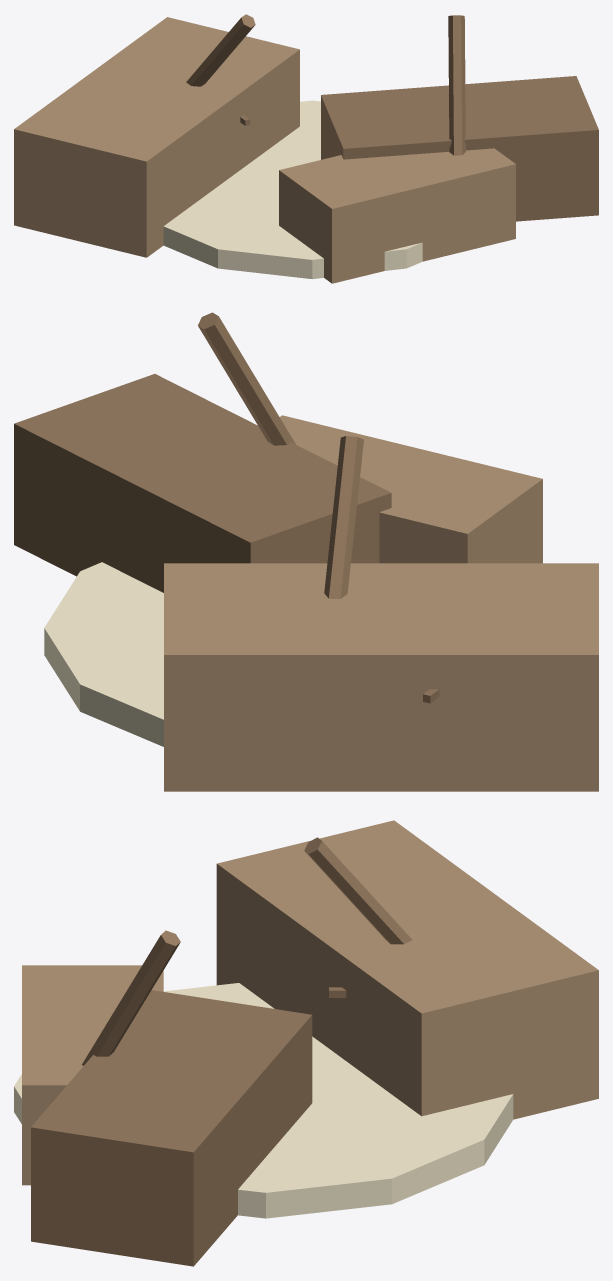
The model's file is 27-Islas-Ubicaciones_cementerio_barcos.glb.
3 renders of one model, top to bottom at view 1: azimuth 30°, elevation 25°; view 2: azimuth 150°, elevation 25°; view 3: azimuth 270°, elevation 25°, orthographic. The views are drawn at different scales.
Parts seen in each view (by area): view 1: SM_Cementerio_Casco_0, SM_Cementerio_Casco_2, SM_Cementerio_Casco_1, SM_Cementerio_Medano, SM_Cementerio_Mastil_1, SM_Cementerio_Mastil_0; view 2: SM_Cementerio_Casco_0, SM_Cementerio_Casco_1, SM_Cementerio_Casco_2, SM_Cementerio_Medano, SM_Cementerio_Mastil_0, SM_Cementerio_Mastil_1; view 3: SM_Cementerio_Casco_0, SM_Cementerio_Casco_1, SM_Cementerio_Medano, SM_Cementerio_Casco_2, SM_Cementerio_Mastil_1, SM_Cementerio_Mastil_0.
Boxes of the visible parts, left/top/right/bottom form: SM_Cementerio_Casco_0: left=14, top=17, right=299, bottom=257; SM_Cementerio_Casco_2: left=279, top=148, right=515, bottom=283; SM_Cementerio_Casco_1: left=321, top=76, right=598, bottom=221; SM_Cementerio_Medano: left=163, top=100, right=422, bottom=279; SM_Cementerio_Mastil_1: left=448, top=15, right=465, bottom=155; SM_Cementerio_Mastil_0: left=186, top=14, right=255, bottom=86; SM_Cementerio_Casco_0: left=164, top=563, right=598, bottom=791; SM_Cementerio_Casco_1: left=14, top=374, right=391, bottom=592; SM_Cementerio_Casco_2: left=279, top=415, right=542, bottom=563; SM_Cementerio_Medano: left=44, top=562, right=163, bottom=746; SM_Cementerio_Mastil_0: left=324, top=436, right=363, bottom=598; SM_Cementerio_Mastil_1: left=198, top=312, right=295, bottom=445; SM_Cementerio_Casco_0: left=216, top=820, right=598, bottom=1119; SM_Cementerio_Casco_1: left=31, top=990, right=312, bottom=1266; SM_Cementerio_Medano: left=14, top=983, right=513, bottom=1218; SM_Cementerio_Casco_2: left=22, top=965, right=163, bottom=1185; SM_Cementerio_Mastil_1: left=82, top=930, right=180, bottom=1065; SM_Cementerio_Mastil_0: left=304, top=837, right=412, bottom=944.
Bounding box in the file's own units: 4.77 × 1.74 × 3.71.
